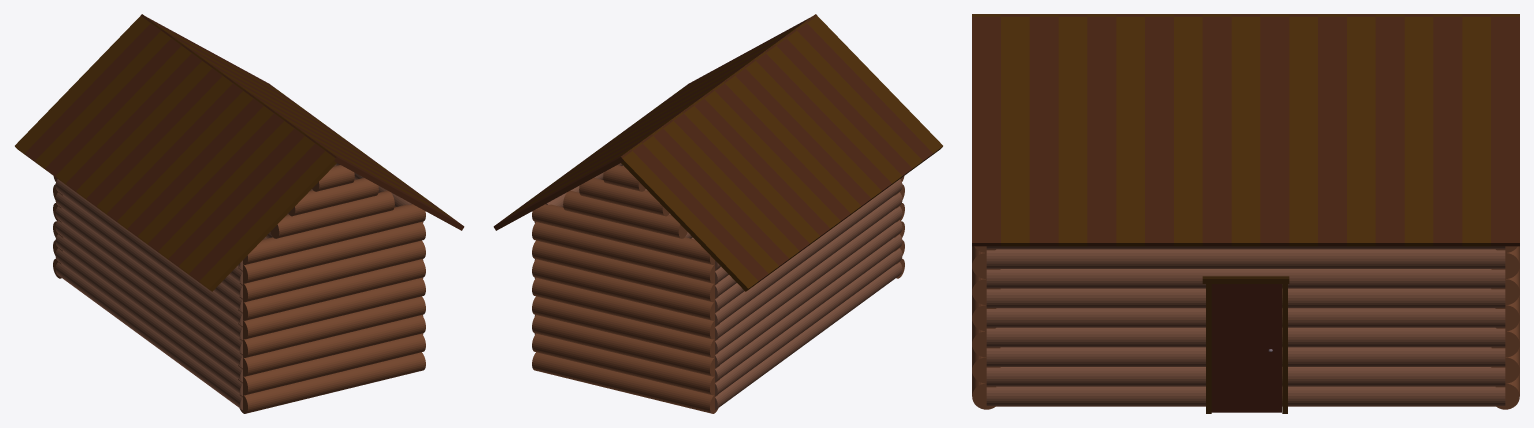
The model's file is House_2.fbx.
3 renders of one model, left to right at view 1: azimuth 30°, elevation 25°; view 2: azimuth 150°, elevation 25°; view 3: azimuth 270°, elevation 25°, orthographic. The views are drawn at different scales.
Parts seen in each view (by area): view 1: Cube.040, Cylinder.037, Cylinder.047, Cube; view 2: Cube.040, Cylinder.001, Cylinder.047, Cube; view 3: Cube, Cylinder.024, Cube.002, Cylinder.001, Cylinder.037, Cube.040, Cube.001, Cube.041, Cube.042.
Part boxes in pixels (box(x1,y1,x2,y2)): Cube.040: box(15, 14, 337, 291); Cylinder.037: box(238, 165, 425, 413); Cylinder.047: box(55, 179, 242, 410); Cube: box(141, 14, 464, 230); Cube.040: box(620, 14, 942, 291); Cylinder.001: box(532, 165, 719, 413); Cylinder.047: box(715, 179, 902, 410); Cube: box(493, 14, 816, 230); Cube: box(972, 14, 1519, 246); Cylinder.024: box(986, 246, 1505, 406); Cube.002: box(1211, 284, 1281, 412); Cylinder.001: box(1491, 246, 1519, 409); Cylinder.037: box(972, 246, 1000, 409); Cube.040: box(972, 14, 1519, 16); Cube.001: box(1206, 283, 1211, 413); Cube.041: box(1282, 283, 1287, 413); Cube.042: box(1202, 276, 1289, 283).
Size of the model in its own units: 2868 by 2562 by 3800.
